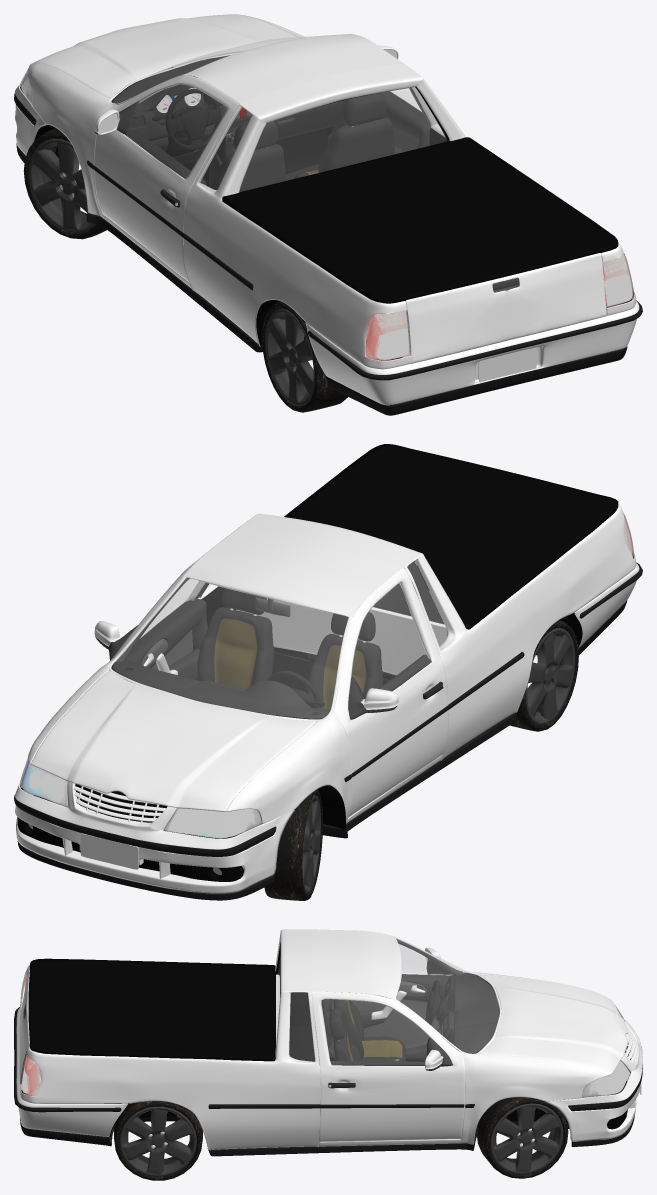
3 views of the same model, one above another, from view 1: azimuth 30°, elevation 25°; view 2: azimuth 150°, elevation 25°; view 3: azimuth 270°, elevation 25° (orthographic). The views are drawn at different scales.
Parts seen in each view (by area): view 1: carro, Cube.002, parabrisa.001, parabrisa, Cube.004, Plane.002, Cube.005, Plane.008, farol draseiro, Cube.003, volante, Cube.009 (+5 smaller); view 2: carro, Cube.002, parabrisa, parabrisa.001, Cube.005, Cube.004, Cube.012, farol dianteiro, Cube.009, Cube.003, Plane.008, Cylinder.001 (+5 smaller); view 3: carro, Cube.002, parabrisa.001, parabrisa, Plane.004, Plane.003, Cube.004, Cube.003, Cube.012, Cylinder.005, Cube.009, Cylinder.007 (+5 smaller).
Part boxes in pixels (x1,y1,x2,y2): carro: (15,14,639,415); Cube.002: (222,137,618,303); parabrisa.001: (94,34,437,282); parabrisa: (113,36,446,191); Cube.004: (111,55,342,164); Plane.002: (29,138,96,233); Cube.005: (294,93,394,178); Plane.008: (265,308,315,406); farol draseiro: (366,254,633,360); Cube.003: (14,87,642,380); volante: (152,88,222,156); Cube.009: (211,121,285,191); carro: (15,504,639,893); Cube.002: (284,444,618,629); parabrisa: (113,559,453,718); parabrisa.001: (108,528,448,817); Cube.005: (197,588,274,689); Cube.004: (111,660,330,719); Cube.012: (17,652,516,900); farol dianteiro: (20,758,261,838); Cube.009: (306,612,383,709); Cube.003: (14,562,642,856); Plane.008: (525,628,575,725); Cylinder.001: (264,789,322,900); carro: (16,929,642,1150); Cube.002: (28,958,275,1061); parabrisa.001: (311,939,465,1142); parabrisa: (278,938,499,1061); Plane.004: (120,1106,196,1176); Plane.003: (490,1103,563,1174); Cube.004: (440,973,499,1053); Cube.003: (14,1007,642,1112); Cube.012: (209,1059,635,1156); Cylinder.005: (476,1097,568,1178); Cube.009: (333,999,405,1061); Cylinder.007: (114,1101,202,1180).
Bounding box in the file's own units: 2.17 × 1.57 × 5.05.
30 materials, 4 textured.
